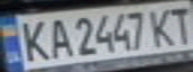2: (69, 12, 97, 56)
4: (93, 10, 115, 54), (112, 9, 133, 52)
7: (124, 8, 151, 51)
A: (42, 15, 75, 60)
K: (15, 16, 51, 63), (148, 4, 178, 47)
T: (166, 3, 193, 45)
